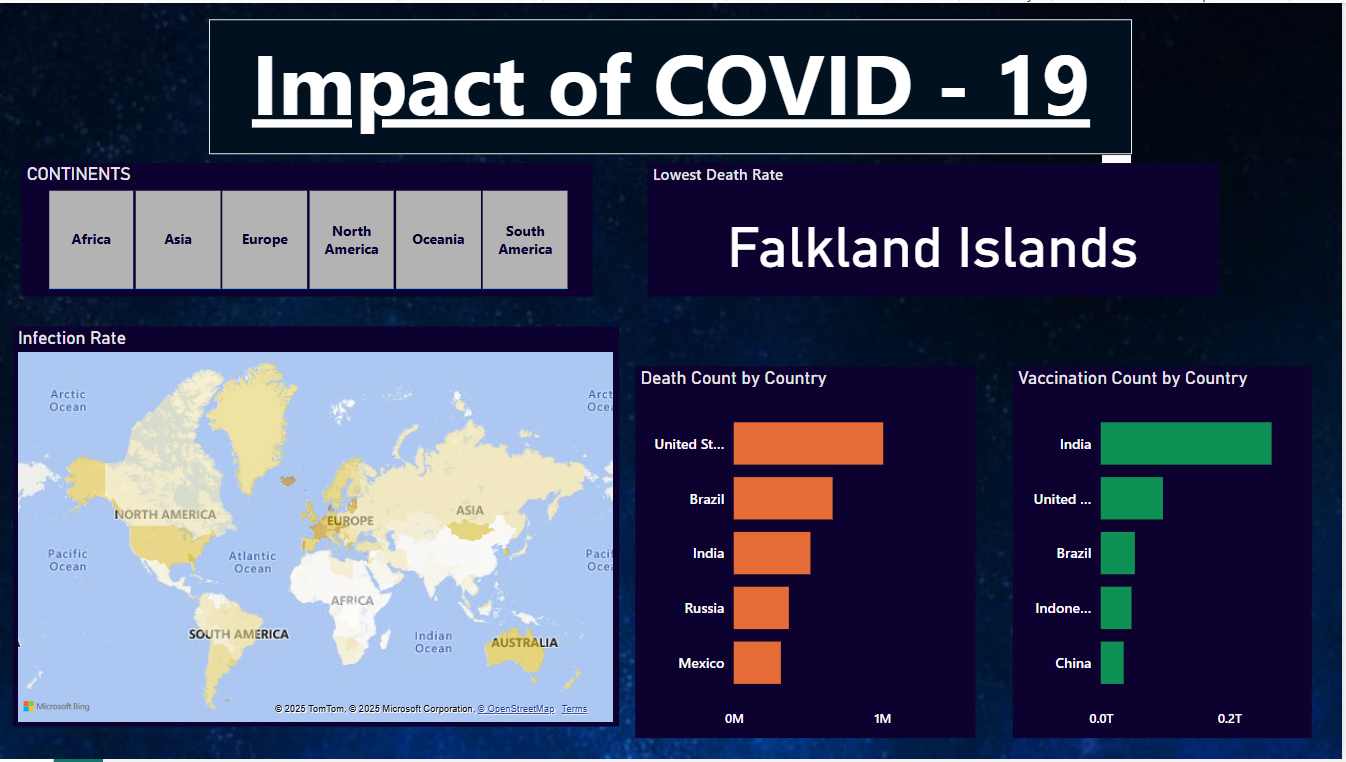

This screenshot's page, from the dashboard's own definition file:
{"tool":"powerbi","page":{"name":"Page 1","canvas":[1280,720],"ordinal":0},"visuals":[{"type":"textbox","box":[200,15.6,880,128.9],"z":0},{"type":"slicer","title":"CONTINENTS","fields":{"Values":["Common Table.continent"]},"box":[21.4,152.4,544.1,127.4],"z":1000},{"type":"filledMap","title":"Infection Rate","fields":{"Category":["Casualties.location"]},"box":[13.1,308.3,577.4,381],"z":2000},{"type":"barChart","title":"Death Count by Country","fields":{"Y":["Casualties.Total deaths"],"Category":["Casualties.location"]},"box":[606,346.4,323.8,353.6],"z":2001},{"type":"barChart","title":"Vaccination Count by Country","fields":{"Y":["Vaccinated.Total Vaccinations"],"Category":["Vaccinated.location"]},"box":[965.5,346.4,284.5,353.6],"z":2002},{"type":"card","title":"Lowest Death Rate","fields":{"Values":["Min(Casualties.location)"]},"box":[617.9,152.4,544.1,127.4],"z":2003}]}

Visuals, with their boxes in screenshot pixels (x1, y1, x2, y2), scaled from the page's 1280x720 canvas onto the 1346x762 screenshot:
textbox: crop(210, 17, 1136, 153)
"CONTINENTS" slicer: crop(23, 161, 595, 296)
"Infection Rate" filledMap: crop(14, 326, 621, 730)
"Death Count by Country" barChart: crop(637, 367, 978, 741)
"Vaccination Count by Country" barChart: crop(1015, 367, 1314, 741)
"Lowest Death Rate" card: crop(650, 161, 1222, 296)
